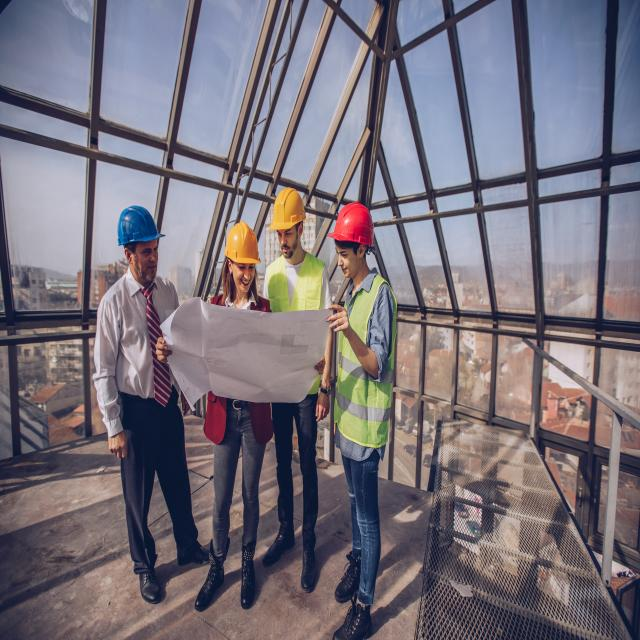helmet: (116, 201, 168, 282), (326, 200, 376, 276), (267, 184, 309, 262), (221, 218, 261, 296)
